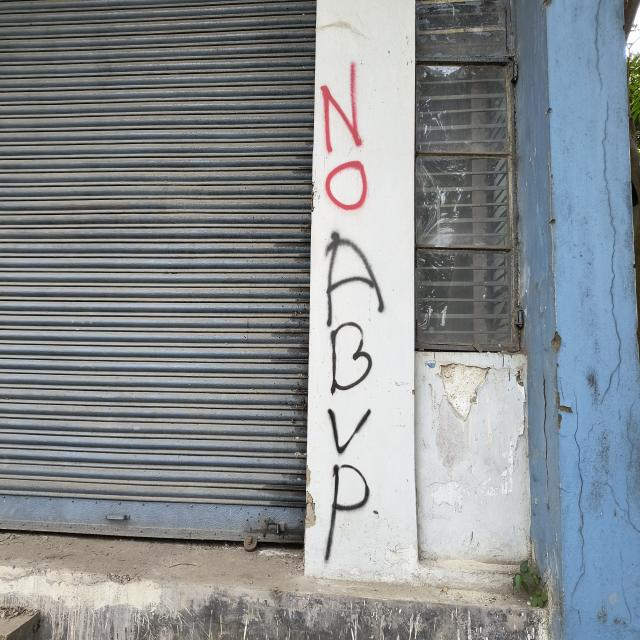Crack: (601, 95, 622, 404), (573, 389, 585, 573), (605, 474, 640, 533), (542, 365, 551, 512), (618, 550, 632, 626), (626, 401, 637, 472), (571, 562, 586, 611)
Graffiti: (319, 54, 386, 564), (594, 0, 605, 97)
Paint Peeling: (501, 436, 519, 495), (432, 481, 464, 512)
Scaling: (440, 364, 490, 421), (515, 368, 527, 423)
Spalling: (551, 331, 561, 352)
